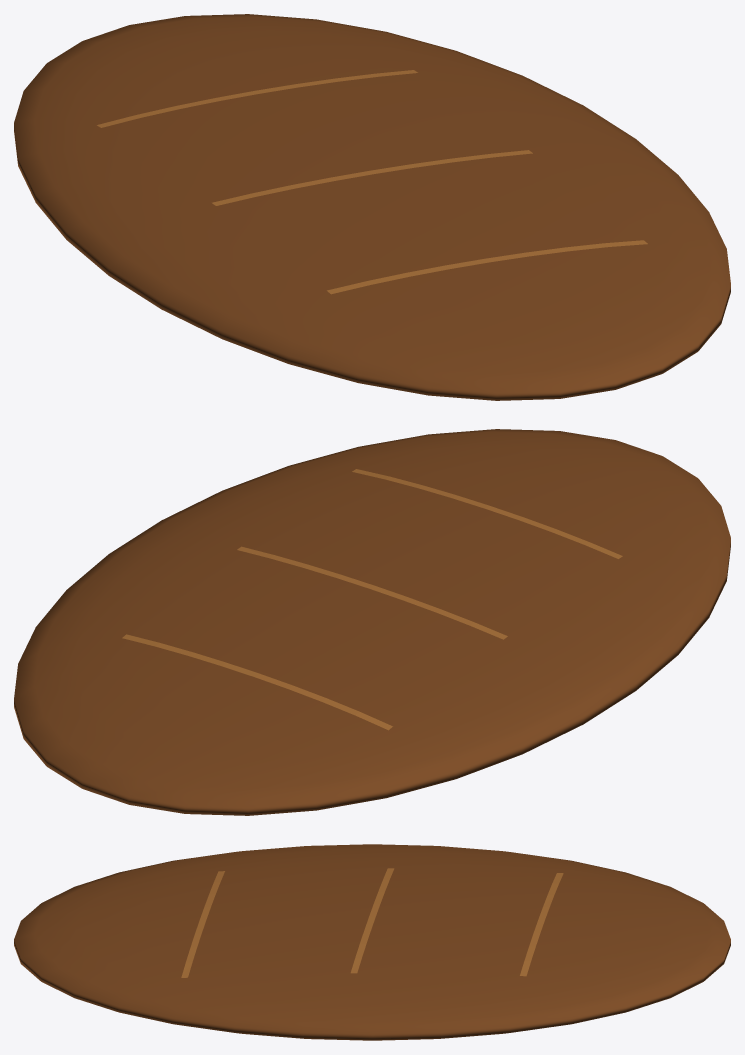
The model's file is retained_bread_raw.glb.
3 renders of one model, top to bottom at view 1: azimuth 30°, elevation 25°; view 2: azimuth 150°, elevation 25°; view 3: azimuth 270°, elevation 25°, orthographic. The views are drawn at different scales.
Visible parts, largest first — view 1: RetainedActivityVisual_bread, ScoredFlatbreadCrust; view 2: RetainedActivityVisual_bread, ScoredFlatbreadCrust; view 3: RetainedActivityVisual_bread, ScoredFlatbreadCrust.
Boxes of the visible parts, bbox=[...] form: RetainedActivityVisual_bread: bbox=[14, 14, 730, 400]; ScoredFlatbreadCrust: bbox=[97, 70, 647, 294]; RetainedActivityVisual_bread: bbox=[14, 429, 730, 815]; ScoredFlatbreadCrust: bbox=[122, 469, 622, 730]; RetainedActivityVisual_bread: bbox=[14, 844, 730, 1040]; ScoredFlatbreadCrust: bbox=[181, 868, 563, 977].
Size of the model in its own units: 0.1985 by 0.0251 by 0.3177.
